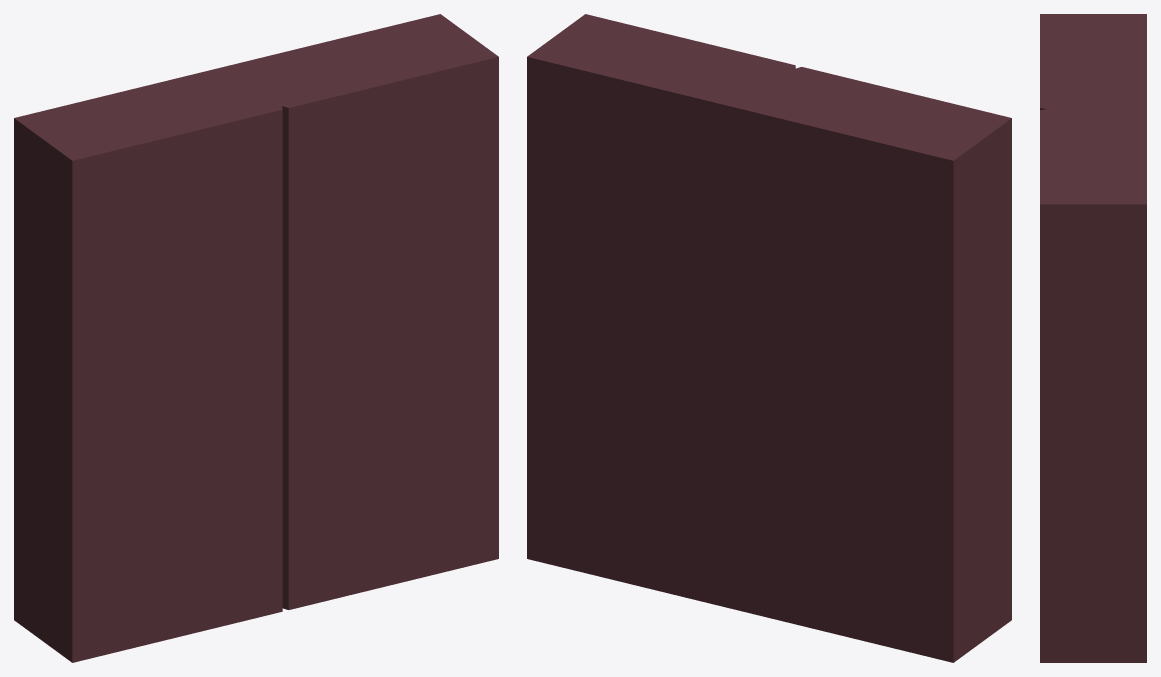
Rendered from mirror-cabinet.fbx.
The picture shows the model from 3 angles, left to right: view 1: azimuth 30°, elevation 25°; view 2: azimuth 150°, elevation 25°; view 3: azimuth 270°, elevation 25°; orthographic projection. The views are drawn at different scales.
Visible parts, largest first — view 1: mirror-cabinet; view 2: mirror-cabinet; view 3: mirror-cabinet.
Part boxes in pixels (x1,y1,x2,y2): mirror-cabinet: (14,14,498,662); mirror-cabinet: (527,14,1011,662); mirror-cabinet: (1040,14,1146,662).
Size of the model in its own units: 0.8 by 0.9 by 0.19.
